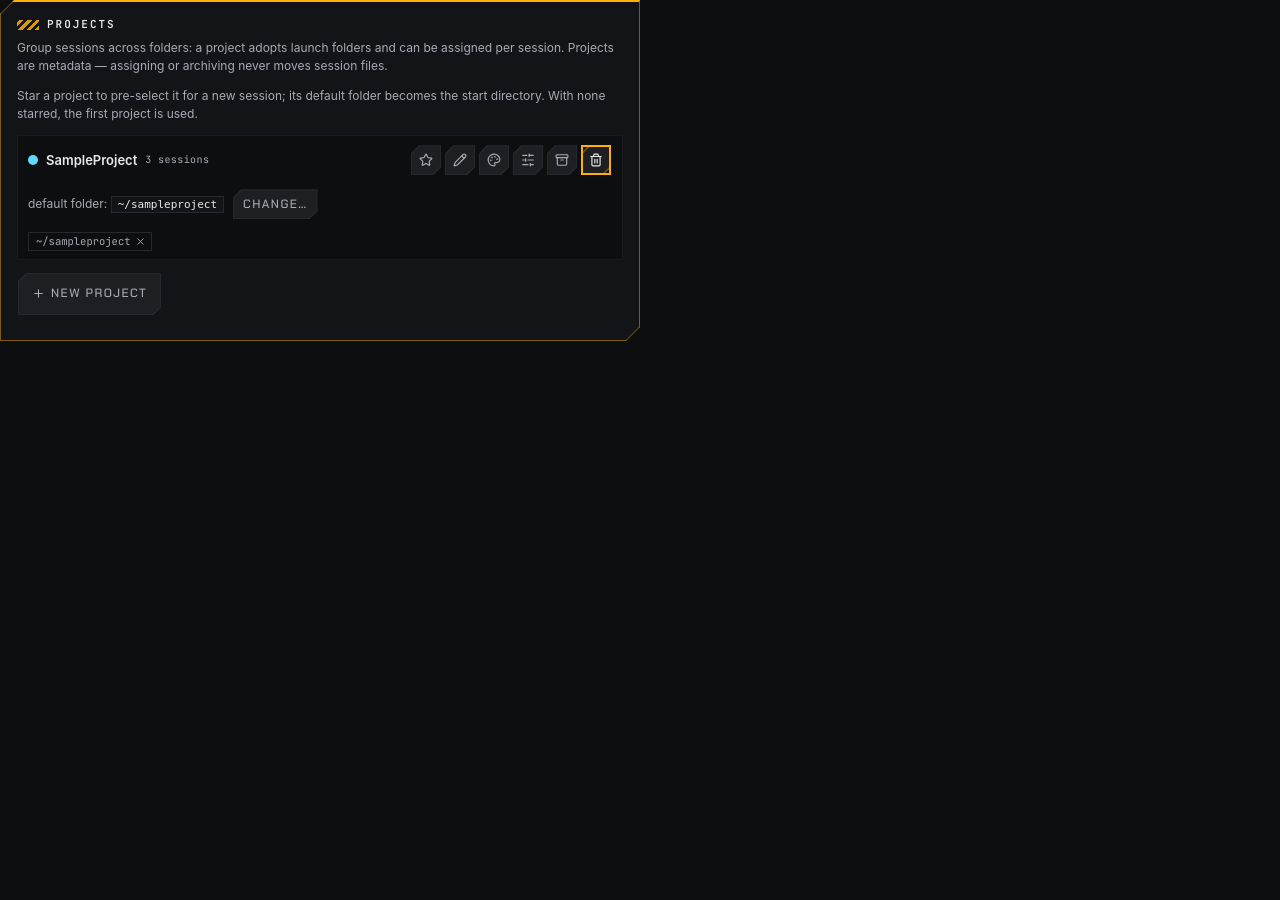
Scenario: a successful delete removes the row it was opened from; focus lands on the section, not the body (#1531)
Expected: the text "SampleProject" is shown, [46,151,137,169]
Press Enter
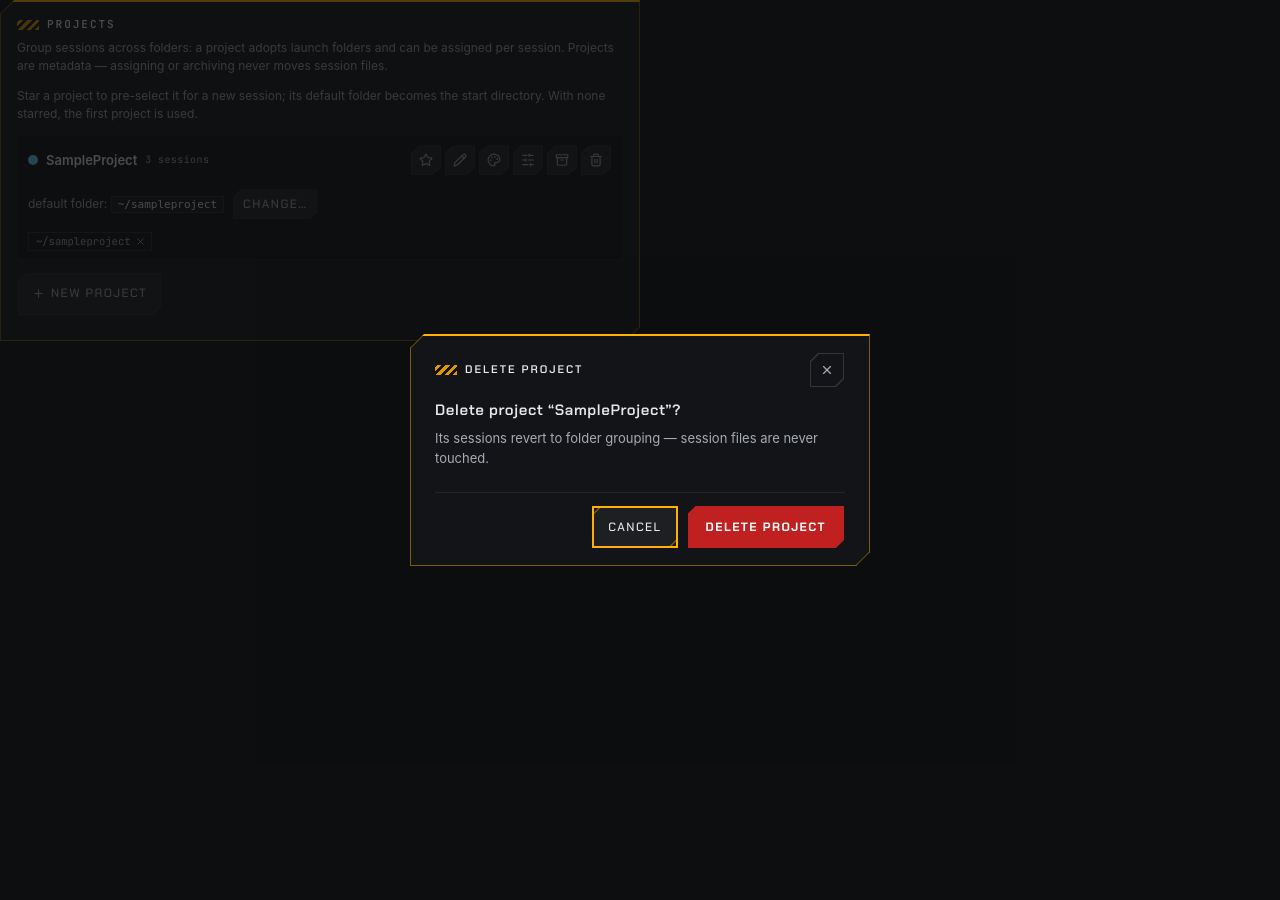
Result: the dialog is shown at [410,334,870,566]
Click the button "Delete project" at coordinates (766, 527), box [687,505,845,549]
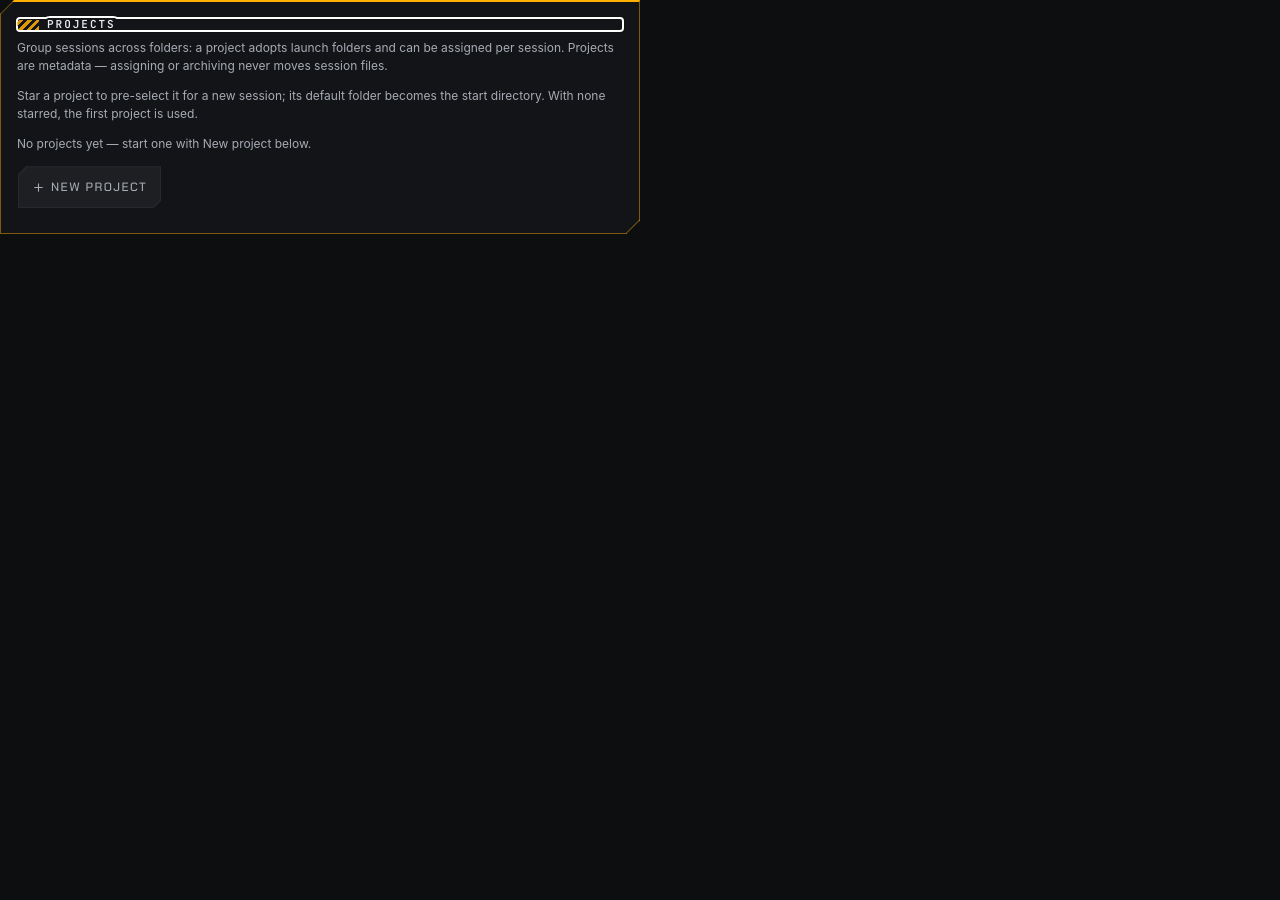
Result: the dialog is gone
